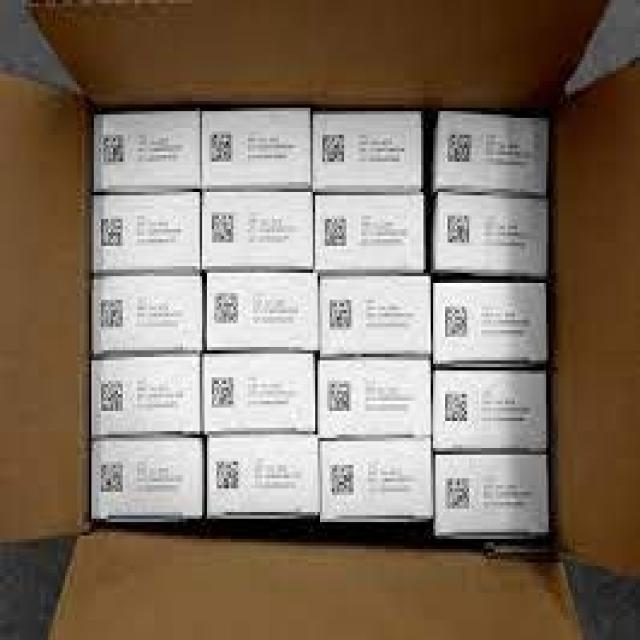datamatrix: (325, 293, 358, 334), (324, 374, 354, 418), (443, 128, 474, 168), (212, 286, 240, 330), (442, 387, 472, 428), (99, 458, 128, 499), (320, 128, 349, 168), (322, 212, 352, 249), (445, 209, 472, 249), (99, 128, 128, 165), (207, 128, 236, 165), (214, 455, 243, 492), (327, 462, 356, 498), (210, 209, 238, 246), (445, 475, 472, 512), (209, 374, 236, 411), (99, 293, 125, 330), (443, 303, 469, 340), (99, 377, 125, 411), (99, 216, 125, 249)
